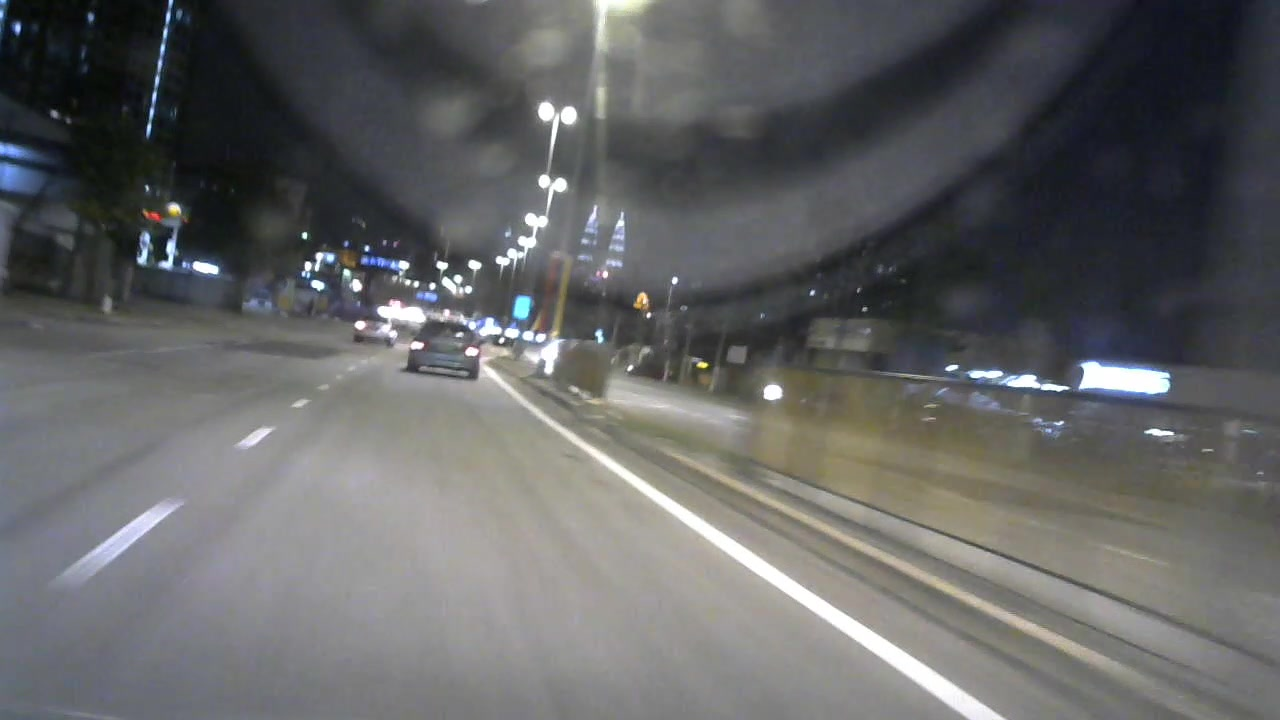Car: (401, 315, 483, 384), (345, 307, 393, 352)
